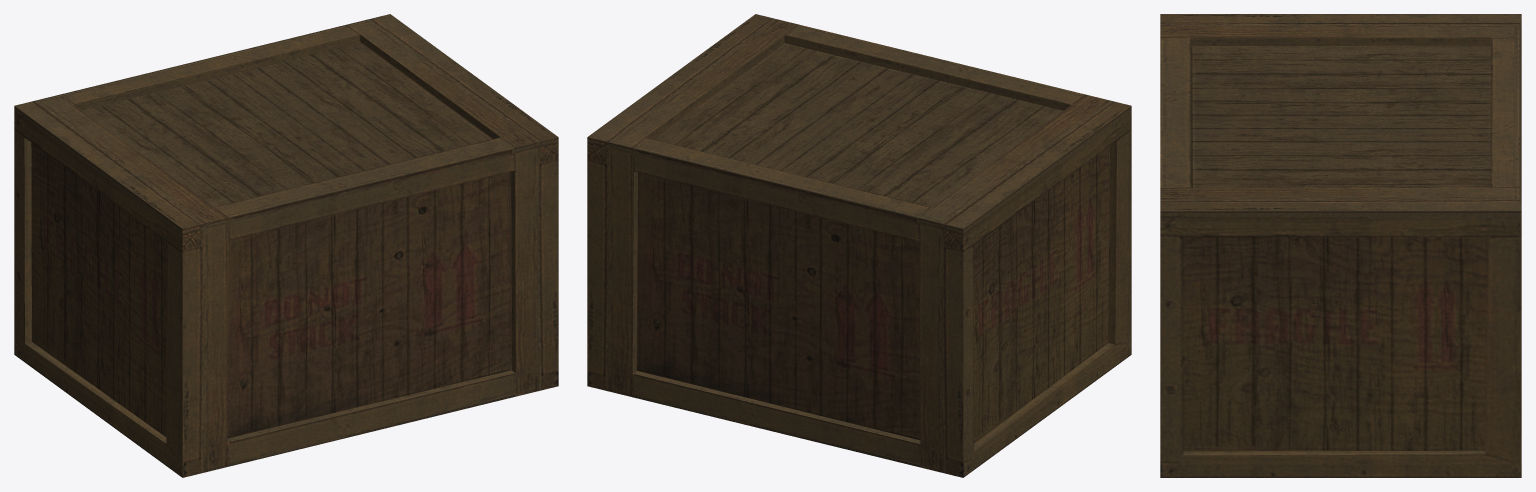
Rendered from wooden_crate_1.obj.
The picture shows the model from 3 angles, left to right: view 1: azimuth 30°, elevation 25°; view 2: azimuth 150°, elevation 25°; view 3: azimuth 270°, elevation 25°; orthographic projection. The views are drawn at different scales.
Parts seen in each view (by area): view 1: wooden_crate_1; view 2: wooden_crate_1; view 3: wooden_crate_1.
Boxes of the visible parts, bbox=[...] form: wooden_crate_1: bbox=[14, 14, 558, 477]; wooden_crate_1: bbox=[587, 14, 1131, 477]; wooden_crate_1: bbox=[1160, 14, 1521, 477].
Size of the model in its own units: 1.47 by 0.93 by 1.14.
